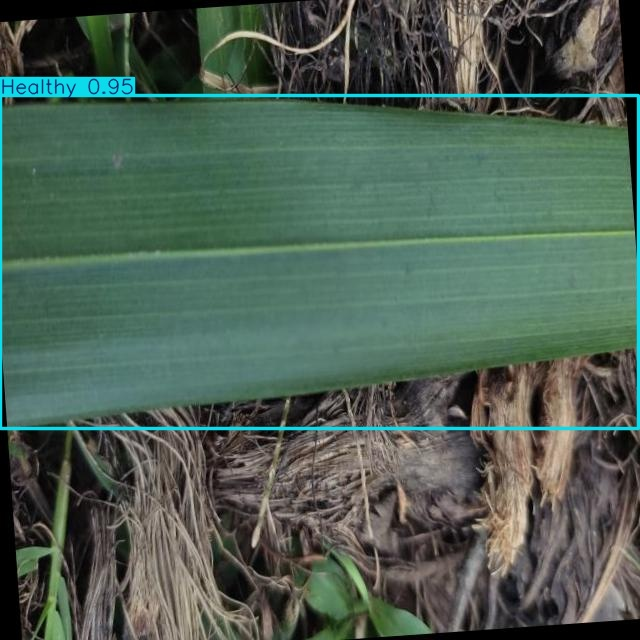Healthy: (0, 95, 638, 428)
